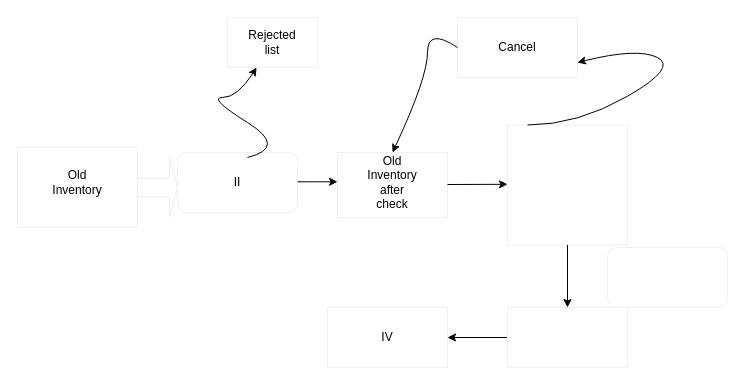
Some shapes in this 745 by 385 pixel diagram are drawn without their labels. Here are the shapes that lost their labels. From the top down, the centre of each, then its label:
At (567,184): "III".
At (667,277): "Delivered".
At (567,337): "New Inventory".
